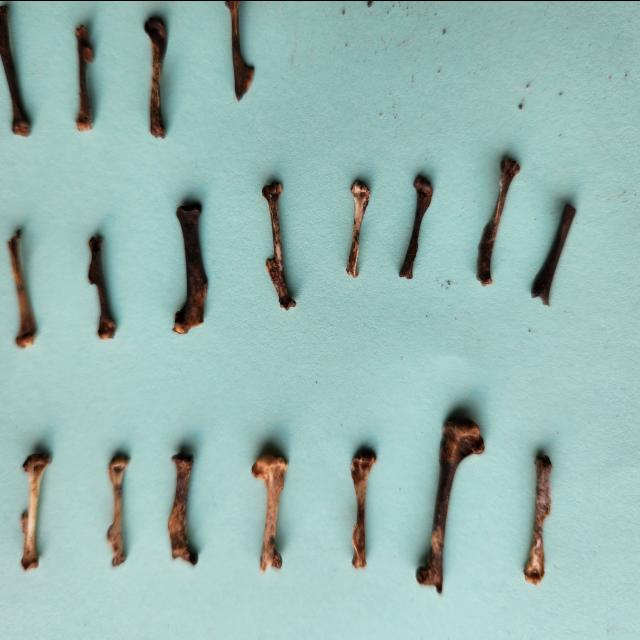fossil: (410, 399, 490, 607), (166, 189, 218, 358), (469, 147, 527, 293), (253, 170, 301, 330), (8, 438, 58, 590), (246, 436, 294, 590), (516, 442, 563, 596), (526, 194, 586, 312), (338, 438, 385, 587), (0, 220, 48, 362), (160, 439, 203, 582), (133, 0, 175, 146), (393, 168, 439, 298), (96, 438, 138, 580), (0, 0, 38, 148), (78, 226, 122, 350), (67, 15, 105, 147), (338, 168, 376, 300), (218, 0, 259, 117)
